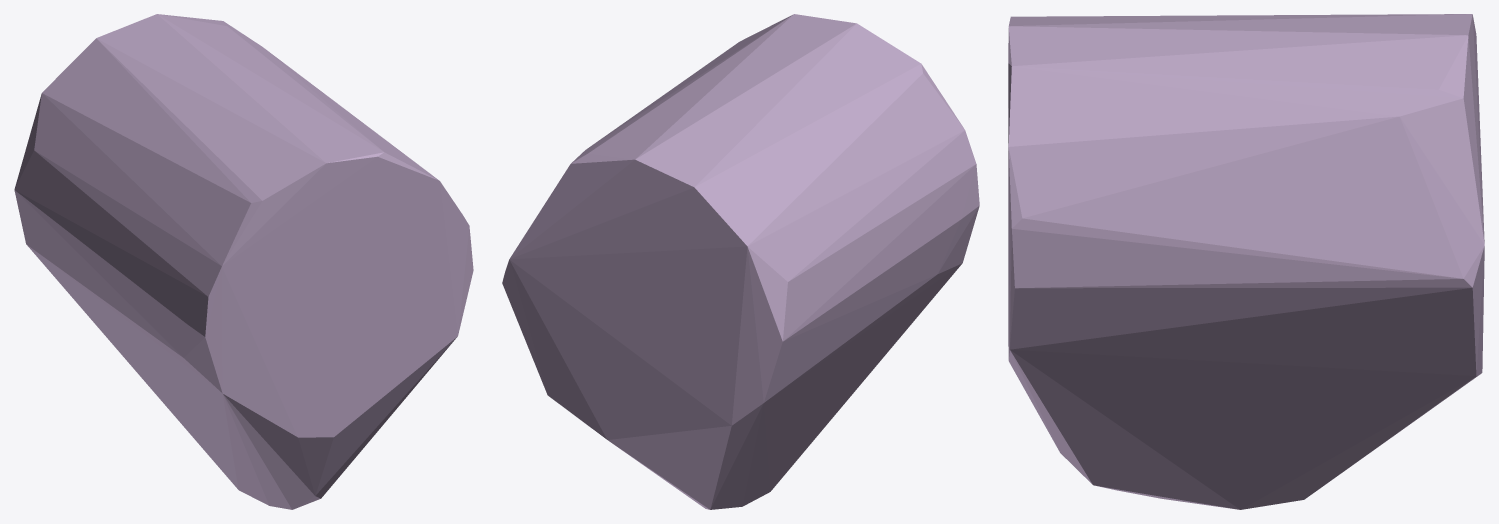
Rendered from kitchenware_mug_r01.glb.
The picture shows the model from 3 angles, left to right: view 1: azimuth 30°, elevation 25°; view 2: azimuth 150°, elevation 25°; view 3: azimuth 270°, elevation 25°; orthographic projection. The views are drawn at different scales.
Parts seen in each view (by area): view 1: geometry_0; view 2: geometry_0; view 3: geometry_0.
Part boxes in pixels (x1,y1,x2,y2): geometry_0: [14, 14, 473, 509]; geometry_0: [502, 14, 979, 509]; geometry_0: [1008, 14, 1484, 509].
Size of the model in its own units: 0.3398 by 0.4782 by 0.433.
